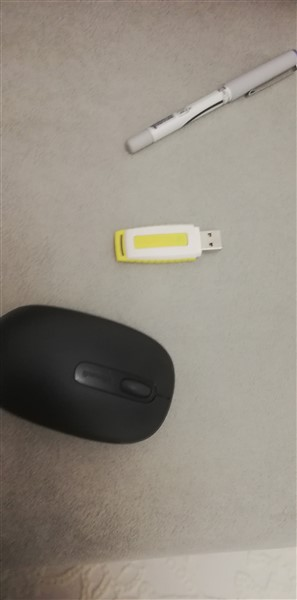flash disk: (107, 218, 235, 272)
mouse: (1, 298, 180, 450)
pilot kalem: (120, 44, 297, 157)
